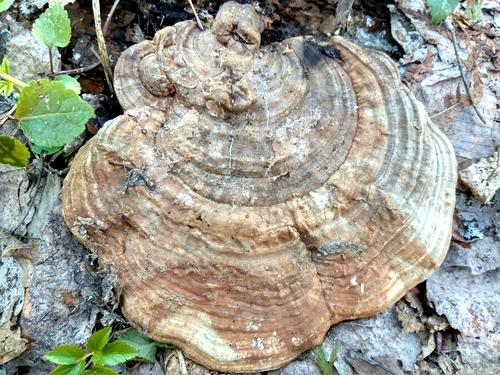Ganoderma - Fruit Body: (62, 22, 458, 372)
